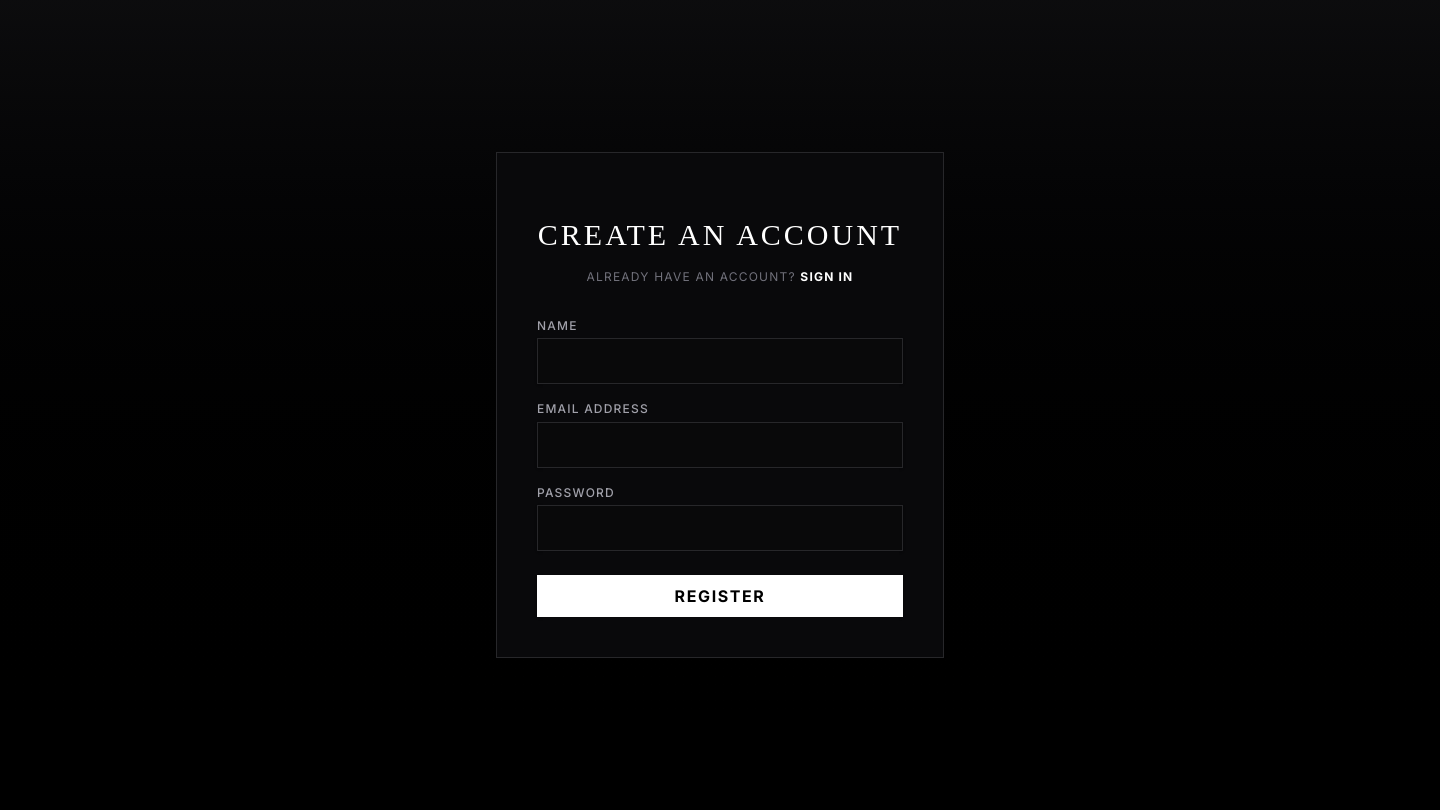
Test: RegisterPage › shows client-side validation errors when submitting empty form
Step 1. Click the button "Register" → [720, 596], box left=537, top=575, right=903, bottom=617
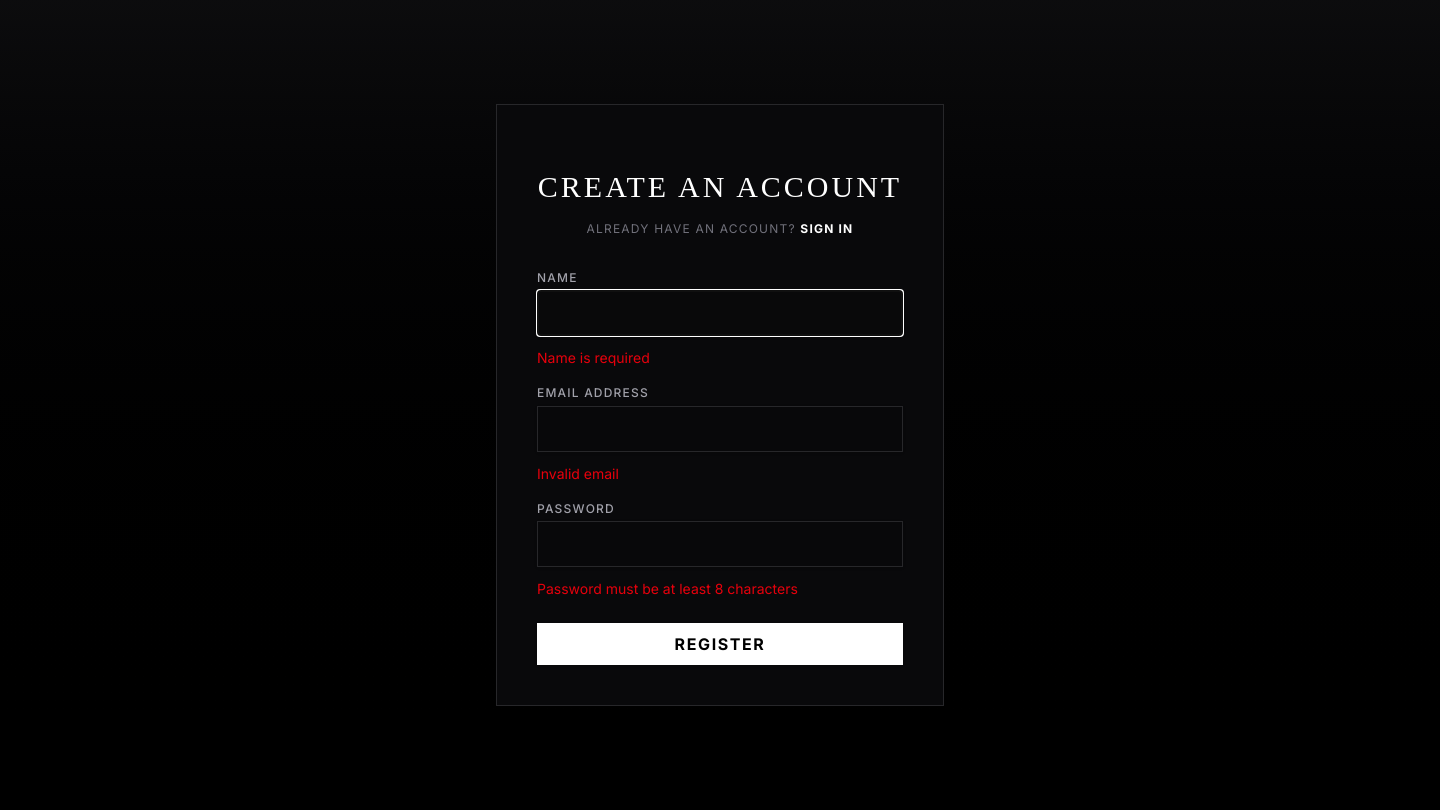
Check: the text "Name is required" is shown, box left=537, top=349, right=650, bottom=366
Check: the text "Invalid email" is shown, box left=537, top=465, right=619, bottom=482
Check: the text "Password must be at least 8 characters" is shown, box left=537, top=580, right=798, bottom=597
